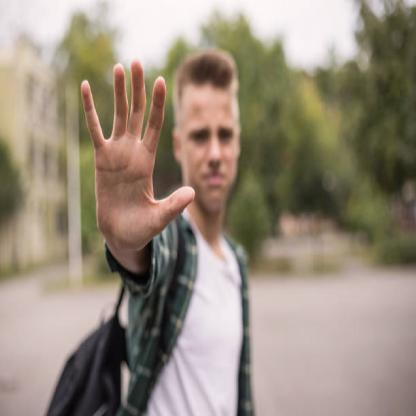stop: (78, 57, 196, 252)
